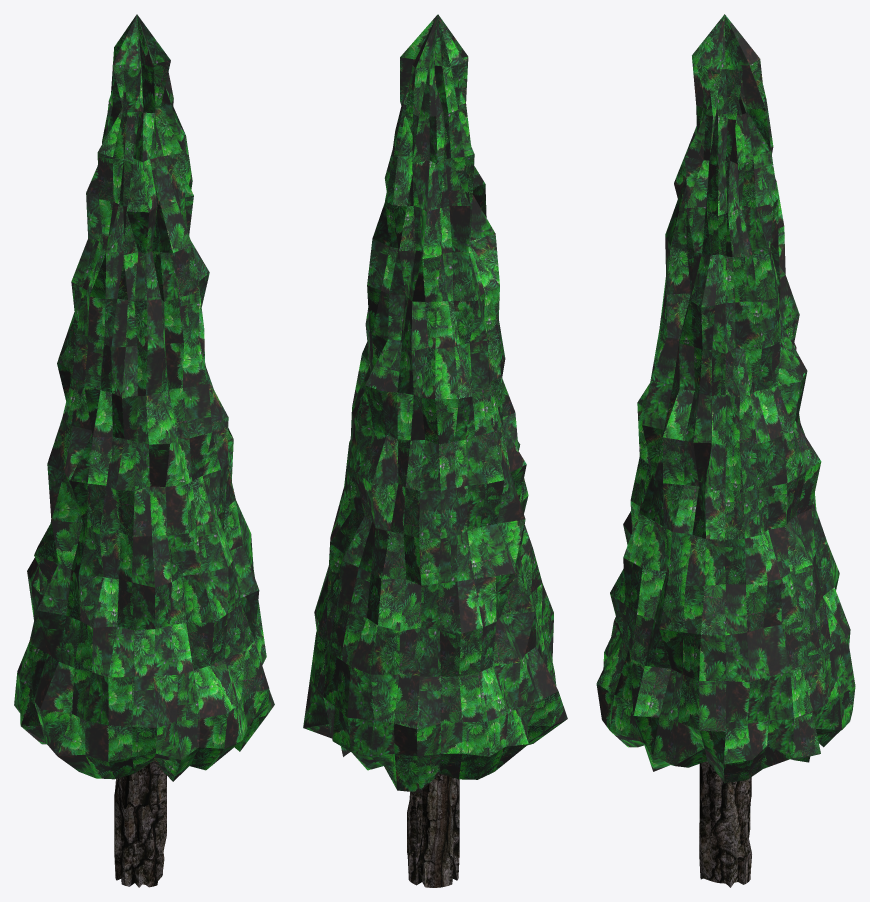
File: 3DTestTree.glb
3 renders of one model, left to right at view 1: azimuth 30°, elevation 25°; view 2: azimuth 150°, elevation 25°; view 3: azimuth 270°, elevation 25°, orthographic.
Parts seen in each view (by area): view 1: Cone, Cylinder; view 2: Cone, Cylinder; view 3: Cone, Cylinder.
Part boxes in pixels (x1,y1,x2,y2): Cone: [14, 14, 274, 781]; Cylinder: [114, 761, 166, 887]; Cone: [303, 14, 567, 792]; Cylinder: [407, 773, 459, 887]; Cone: [596, 14, 855, 782]; Cylinder: [699, 761, 751, 887].
Bounding box in the file's own units: 5.9 × 21.36 × 5.82.
Materials: 2 (2 with a texture image).
